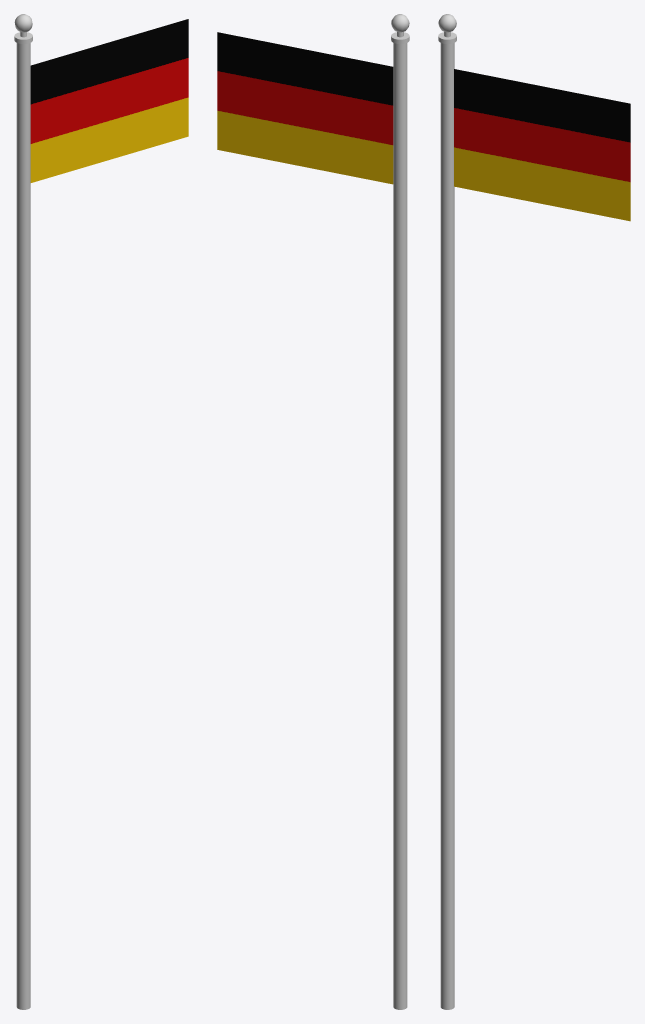
Rendered from FlagCountry__010.fbx.
The picture shows the model from 3 angles, left to right: view 1: azimuth 30°, elevation 25°; view 2: azimuth 150°, elevation 25°; view 3: azimuth 330°, elevation 25°; orthographic projection.
Parts seen in each view (by area): view 1: FlagCountry_.010; view 2: FlagCountry_.010; view 3: FlagCountry_.010.
Part boxes in pixels (x1,y1,x2,y2): FlagCountry_.010: (14,14,188,1009); FlagCountry_.010: (217,14,409,1009); FlagCountry_.010: (438,14,630,1009).
Size of the model in its own units: 4.53 by 23.6 by 0.5914.
Materials: 2 (1 with a texture image).
